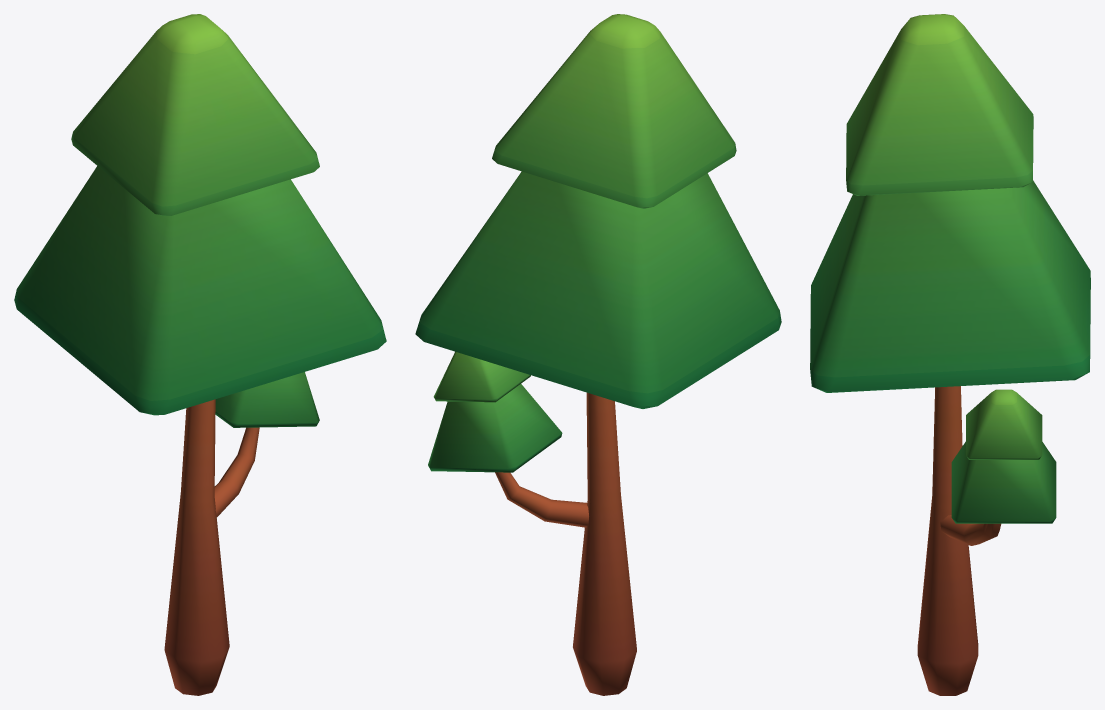
Rendered from Tree_4_A_Color1.gltf.
The picture shows the model from 3 angles, left to right: view 1: azimuth 30°, elevation 25°; view 2: azimuth 150°, elevation 25°; view 3: azimuth 270°, elevation 25°; orthographic projection.
Visible parts, largest first — view 1: Tree_4_A_Color1; view 2: Tree_4_A_Color1; view 3: Tree_4_A_Color1.
Boxes of the visible parts, <box> form: Tree_4_A_Color1: <box>14,14,386,695</box>; Tree_4_A_Color1: <box>415,14,781,695</box>; Tree_4_A_Color1: <box>810,14,1090,695</box>.
Size of the model in its own units: 2.01 by 5.27 by 2.
1 material, 1 textured.
